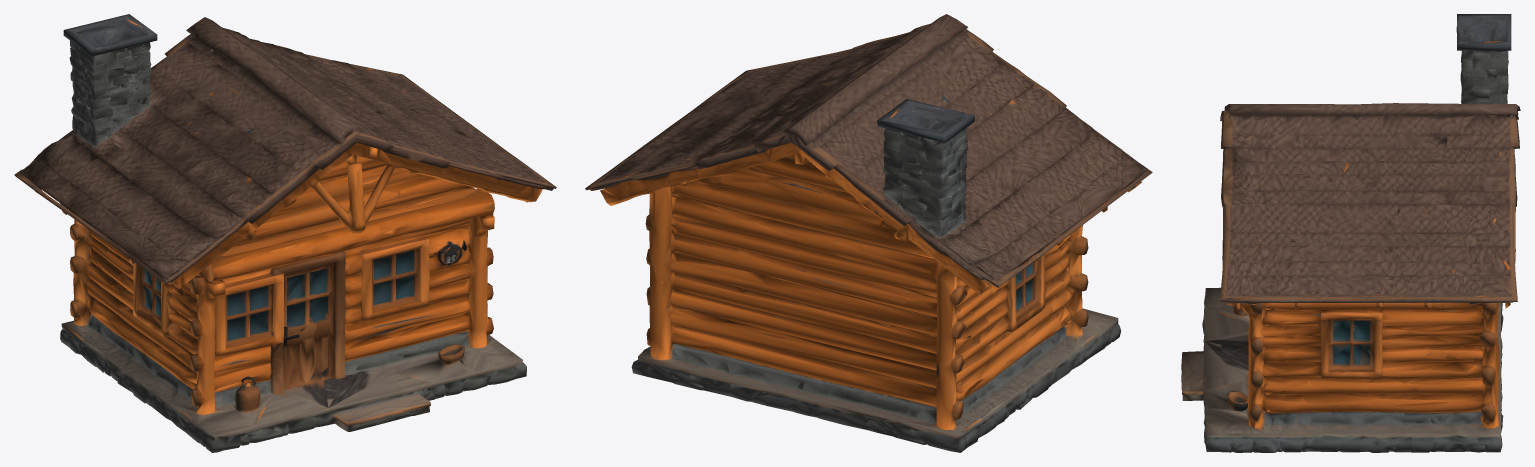
File: cabin.glb
3 views of the same model, side by side, from view 1: azimuth 30°, elevation 25°; view 2: azimuth 150°, elevation 25°; view 3: azimuth 270°, elevation 25° (orthographic). The views are drawn at different scales.
Parts seen in each view (by area): view 1: LoganCabinShell; view 2: LoganCabinShell; view 3: LoganCabinShell.
Boxes of the visible parts, left/top/right/bottom form: LoganCabinShell: left=14, top=14, right=556, bottom=452; LoganCabinShell: left=585, top=14, right=1152, bottom=452; LoganCabinShell: left=1181, top=14, right=1520, bottom=452.
Size of the model in its own units: 6.2 by 4.6 by 4.8.
1 material, 1 textured.
